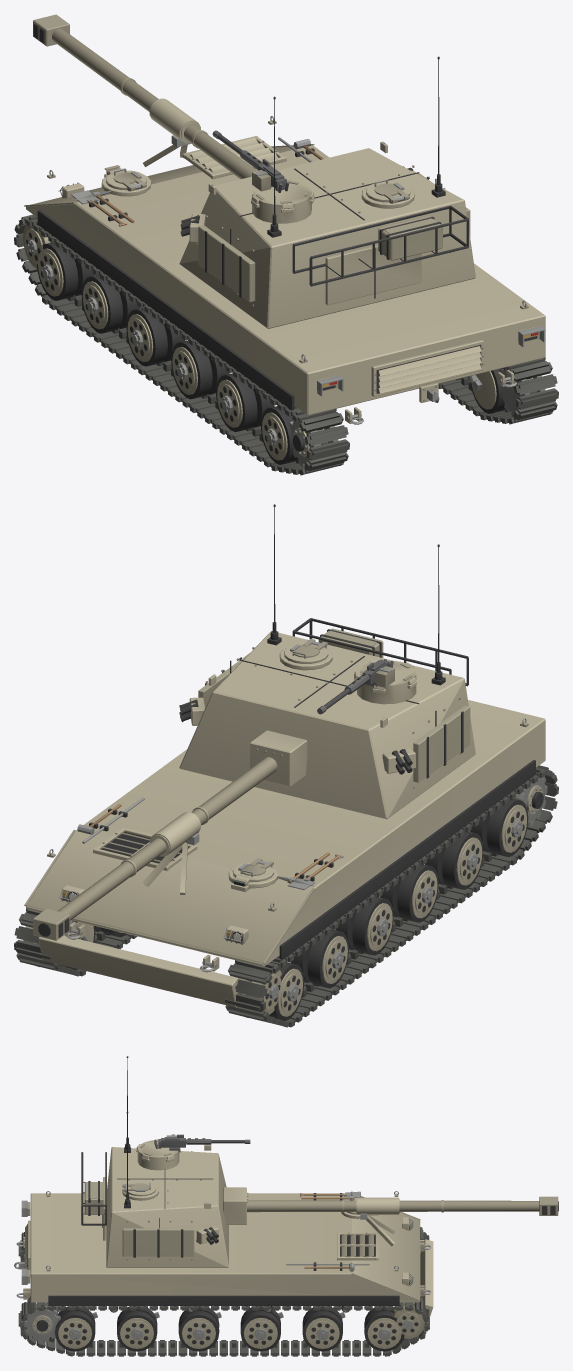
The model's file is rus_spg_akat.glb.
3 renders of one model, top to bottom at view 1: azimuth 30°, elevation 25°; view 2: azimuth 150°, elevation 25°; view 3: azimuth 270°, elevation 25°, orthographic. The views are drawn at different scales.
Visible parts, largest first — view 1: body, turret, barrel; view 2: body, turret, barrel; view 3: body, turret, barrel.
Part boxes in pixels (x1,y1,x2,y2): body: (14, 116, 558, 475); turret: (179, 56, 475, 328); barrel: (33, 14, 256, 179); body: (14, 700, 558, 1027); turret: (179, 504, 475, 819); barrel: (33, 730, 307, 940); body: (14, 1191, 433, 1356); turret: (81, 1056, 250, 1267); barrel: (223, 1187, 558, 1224).
Bounding box in the file's own units: 3.36 × 4.28 × 9.16.
